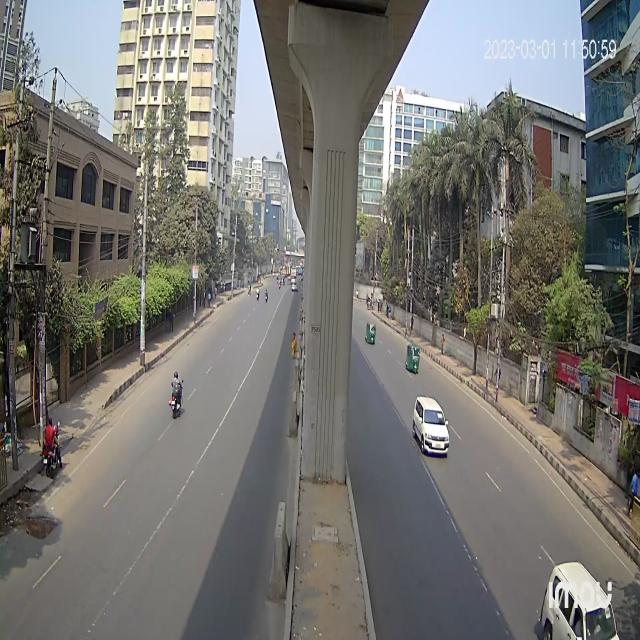cng: (404, 336, 424, 377), (365, 318, 378, 355)
